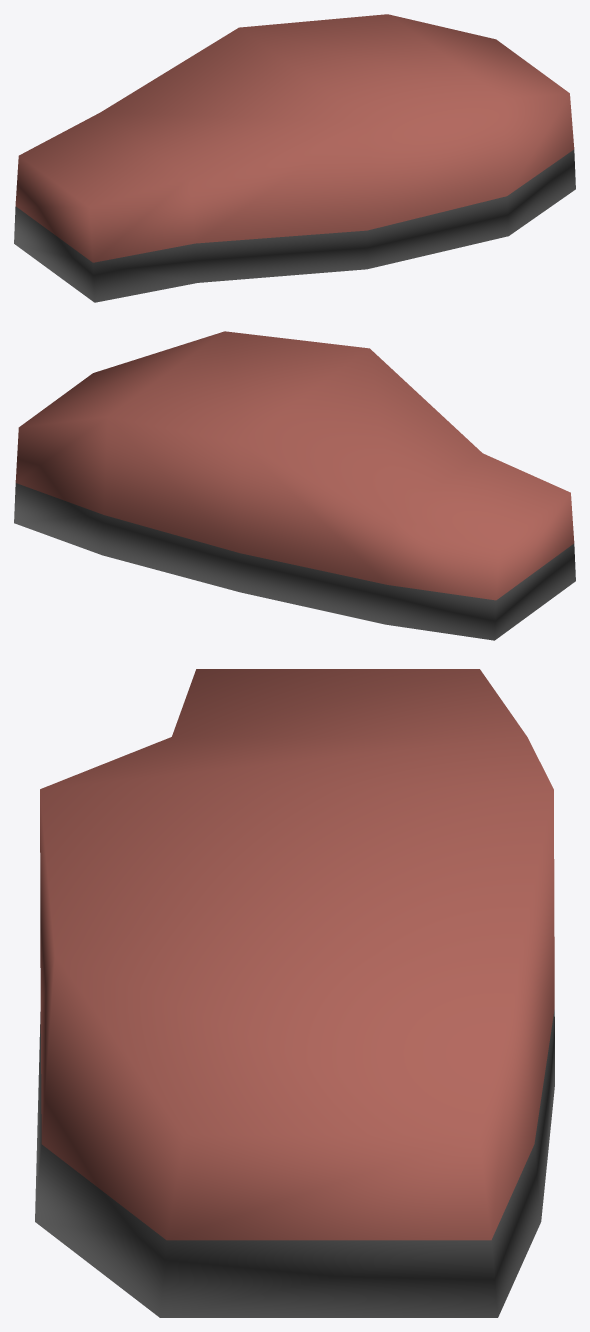
The model's file is salmon ingredient.fbx.
3 renders of one model, top to bottom at view 1: azimuth 30°, elevation 25°; view 2: azimuth 150°, elevation 25°; view 3: azimuth 270°, elevation 25°, orthographic. The views are drawn at different scales.
Visible parts, largest first — view 1: salmon5; view 2: salmon5; view 3: salmon5.
Part boxes in pixels (x1,y1,x2,y2): salmon5: (14, 14, 575, 302); salmon5: (14, 331, 575, 640); salmon5: (35, 669, 554, 1317).
Size of the model in its own units: 36.14 by 10.7 by 17.05.
